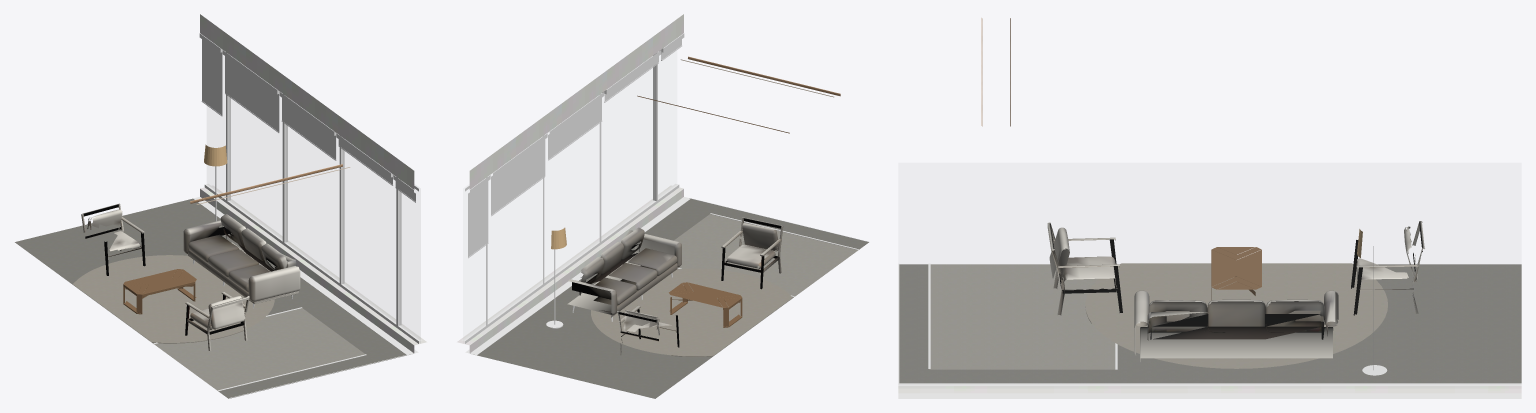
File: z-final-lite.full.3ccc5346.glb
The picture shows the model from 3 angles, left to right: view 1: azimuth 30°, elevation 25°; view 2: azimuth 150°, elevation 25°; view 3: azimuth 270°, elevation 25°; orthographic projection. The views are drawn at different scales.
Parts seen in each view (by area): view 1: final_carpet, final_satin, final_fx, final_plaster, final_modern_coffee_table_01, final_emit, final_oak, final_metal_lit; view 2: final_carpet, final_satin, final_fx, final_plaster, final_modern_coffee_table_01, final_oak, final_metal_lit, final_emit; view 3: final_carpet, final_fx, final_satin, final_plaster, final_modern_coffee_table_01.
Part boxes in pixels (box(x1,y1,x2,y2)): final_carpet: box(15, 198, 413, 398); final_satin: box(153, 33, 422, 391); final_fx: box(81, 203, 300, 350); final_plaster: box(200, 14, 426, 352); final_modern_coffee_table_01: box(123, 269, 196, 314); final_emit: box(196, 144, 350, 204); final_oak: box(190, 164, 342, 203); final_metal_lit: box(193, 198, 408, 398); final_carpet: box(470, 199, 868, 398); final_satin: box(461, 33, 858, 354); final_fx: box(567, 217, 783, 355); final_plaster: box(457, 14, 683, 352); final_modern_coffee_table_01: box(669, 282, 742, 327); final_oak: box(637, 56, 840, 133); final_metal_lit: box(476, 198, 868, 354); final_emit: box(551, 59, 833, 249); final_carpet: box(899, 263, 1521, 383); final_fx: box(1047, 221, 1424, 361); final_satin: box(898, 246, 1521, 398); final_plaster: box(898, 386, 1521, 393); final_modern_coffee_table_01: box(1211, 247, 1261, 300).
Size of the model in its own units: 3.75 by 3.3 by 7.
Materials: 9 (4 with a texture image).
